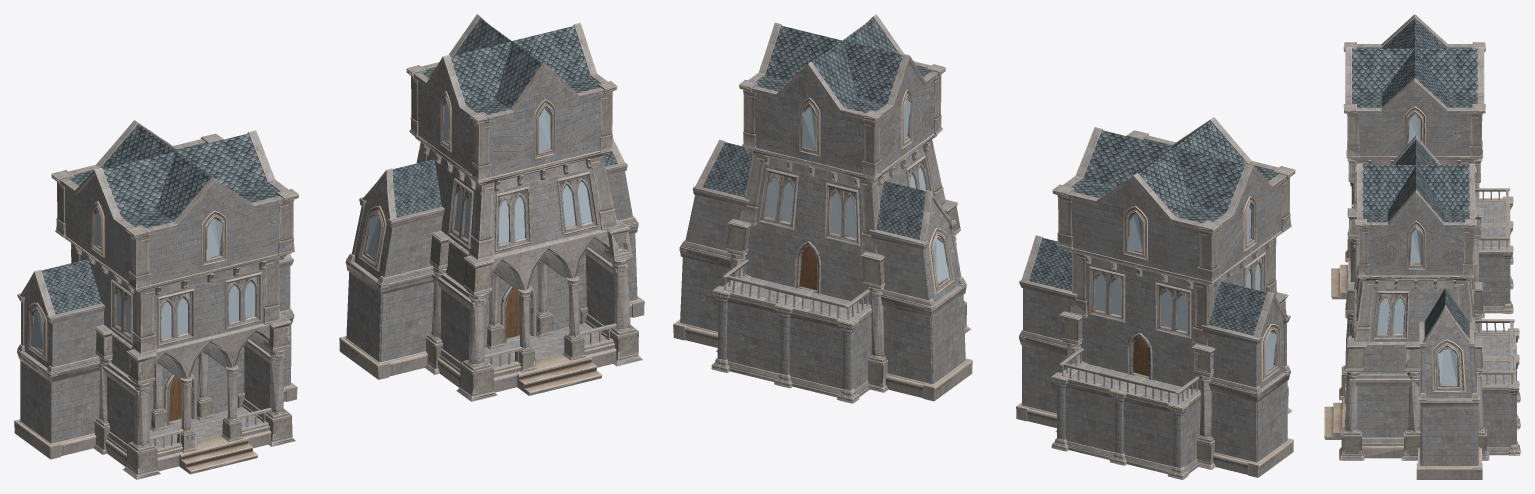
Rendered from City_Homes_A.fbx.
3 renders of one model, left to right at view 1: azimuth 30°, elevation 25°; view 2: azimuth 150°, elevation 25°; view 3: azimuth 270°, elevation 25°, orthographic. The views are drawn at different scales.
Visible parts, largest first — view 1: City_Home_A1, City_Home_A2, City_Home_A2.003, City_Home_A1.003, City_Home_A2.002, City_Home_A2.001, City_Home_A1.001, City_Home_A1.002; view 2: City_Home_A1, City_Home_A2, City_Home_A1.001, City_Home_A2.001, City_Home_A2.003, City_Home_A1.002, City_Home_A2.002, City_Home_A1.003; view 3: City_Home_A2, City_Home_A2.003, City_Home_A2.001, City_Home_A1, City_Home_A2.002, City_Home_A1.002, City_Home_A1.003, City_Home_A1.001.
Boxes of the visible parts, left/top/right/bottom form: City_Home_A1: left=14, top=120, right=298, bottom=479; City_Home_A2: left=339, top=14, right=644, bottom=401; City_Home_A2.003: left=340, top=41, right=644, bottom=400; City_Home_A1.003: left=15, top=133, right=298, bottom=478; City_Home_A2.002: left=339, top=18, right=643, bottom=400; City_Home_A2.001: left=339, top=65, right=643, bottom=400; City_Home_A1.001: left=14, top=138, right=295, bottom=479; City_Home_A1.002: left=14, top=124, right=298, bottom=478; City_Home_A1: left=1016, top=117, right=1295, bottom=479; City_Home_A2: left=673, top=14, right=972, bottom=403; City_Home_A1.001: left=1016, top=133, right=1293, bottom=478; City_Home_A2.001: left=673, top=62, right=972, bottom=401; City_Home_A2.003: left=675, top=25, right=972, bottom=402; City_Home_A1.002: left=1016, top=121, right=1295, bottom=479; City_Home_A2.002: left=673, top=18, right=971, bottom=402; City_Home_A1.003: left=1016, top=130, right=1295, bottom=478; City_Home_A2: left=1324, top=135, right=1519, bottom=470; City_Home_A2.003: left=1324, top=139, right=1520, bottom=479; City_Home_A2.001: left=1324, top=151, right=1519, bottom=467; City_Home_A1: left=1331, top=14, right=1512, bottom=318; City_Home_A2.002: left=1324, top=141, right=1519, bottom=479; City_Home_A1.002: left=1335, top=19, right=1512, bottom=313; City_Home_A1.003: left=1332, top=18, right=1513, bottom=317; City_Home_A1.001: left=1331, top=42, right=1512, bottom=317.
Bounding box in the file's own units: 3524 × 1758 × 1189.
